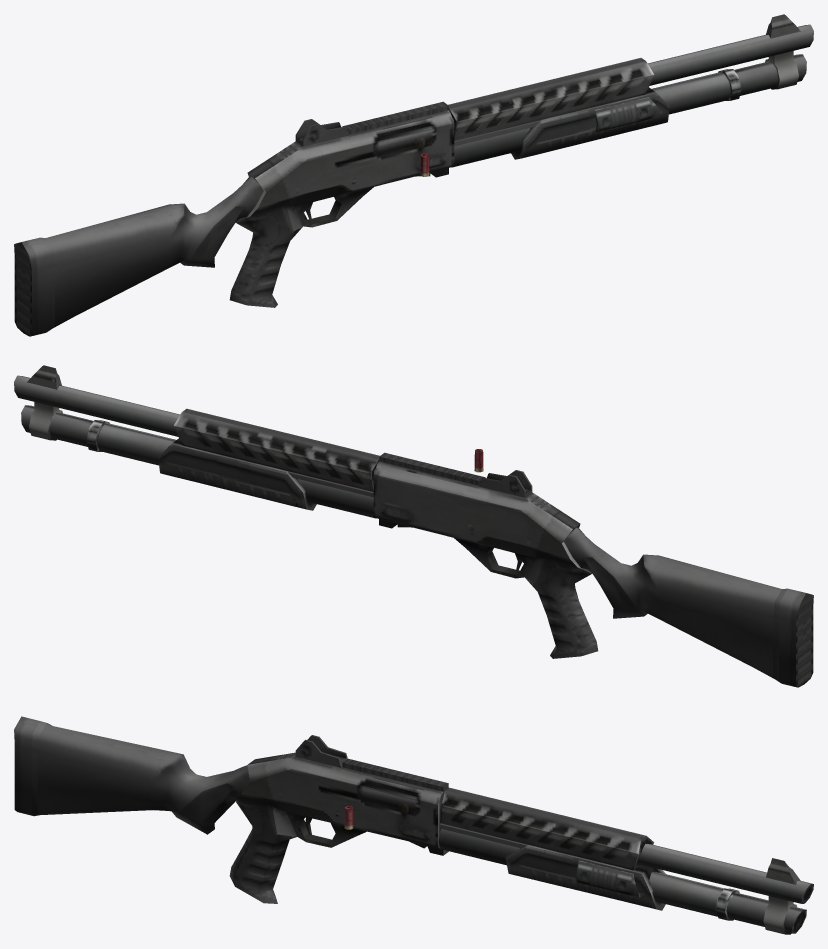
The model's file is shotgun.glb.
3 renders of one model, top to bottom at view 1: azimuth 30°, elevation 25°; view 2: azimuth 150°, elevation 25°; view 3: azimuth 330°, elevation 25°, orthographic.
Visible parts, largest first — view 1: Tactical_Body, Tactical_Stock_V1, Tactical_Handguard_V1; view 2: Tactical_Body, Tactical_Stock_V1, Tactical_Handguard_V1; view 3: Tactical_Body, Tactical_Stock_V1, Tactical_Handguard_V1.
Boxes of the visible parts, <box> form: Tactical_Body: <box>229,14,813,307</box>; Tactical_Stock_V1: <box>14,176,263,336</box>; Tactical_Handguard_V1: <box>511,87,669,159</box>; Tactical_Body: <box>14,365,598,658</box>; Tactical_Stock_V1: <box>564,527,813,687</box>; Tactical_Handguard_V1: <box>158,438,316,510</box>; Tactical_Body: <box>229,735,813,934</box>; Tactical_Stock_V1: <box>14,716,249,834</box>; Tactical_Handguard_V1: <box>505,845,665,910</box>.
Size of the model in its own units: 2.88 by 0.6065 by 0.3166.
3 materials, 3 textured.
